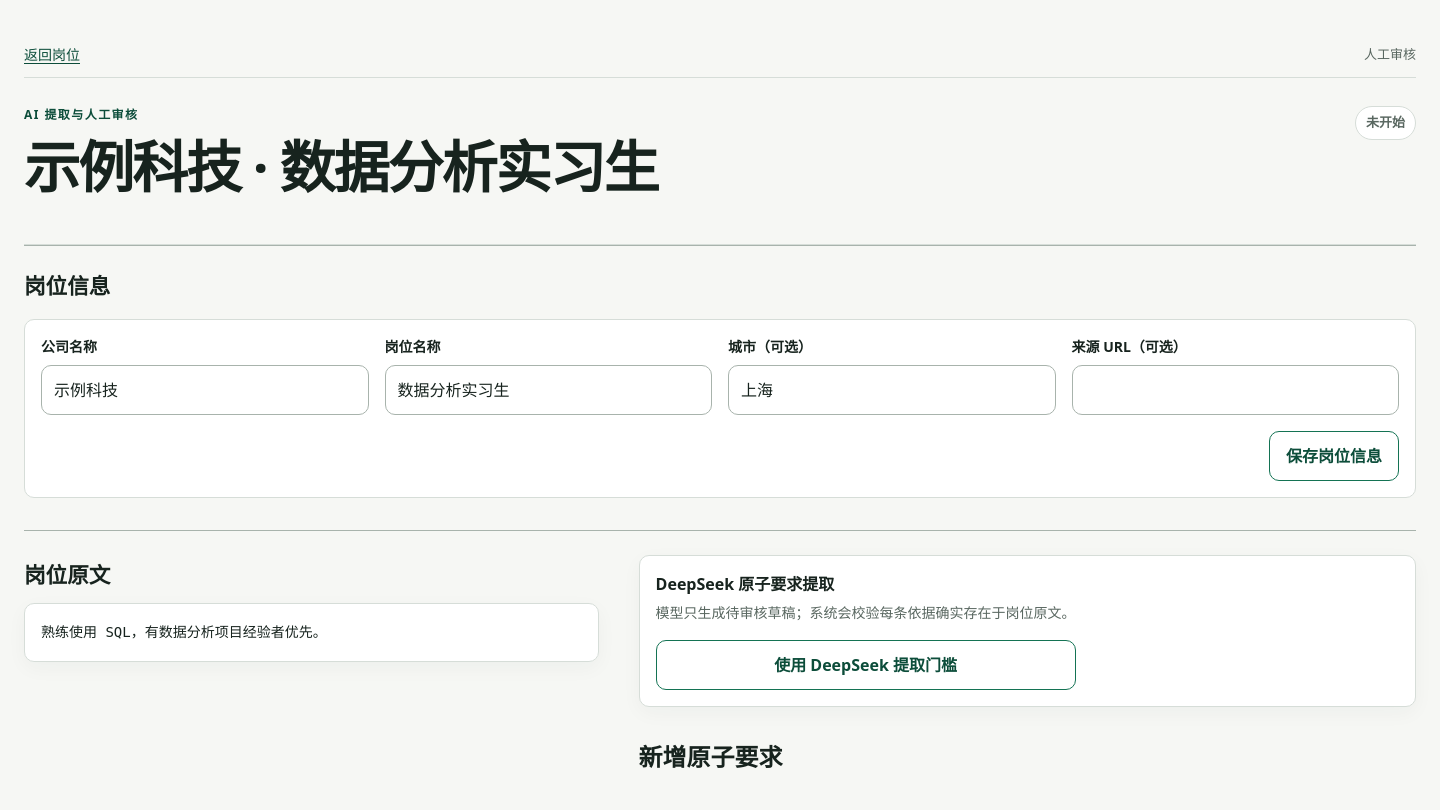
Scenario: RequirementReviewDashboard › starts AI analysis and shows extracted requirements after completion
The image size is (1440, 810).
Click the button "使用 DeepSeek 提取门槛": (866, 665) [656, 640, 1076, 690]
(page scrolled)
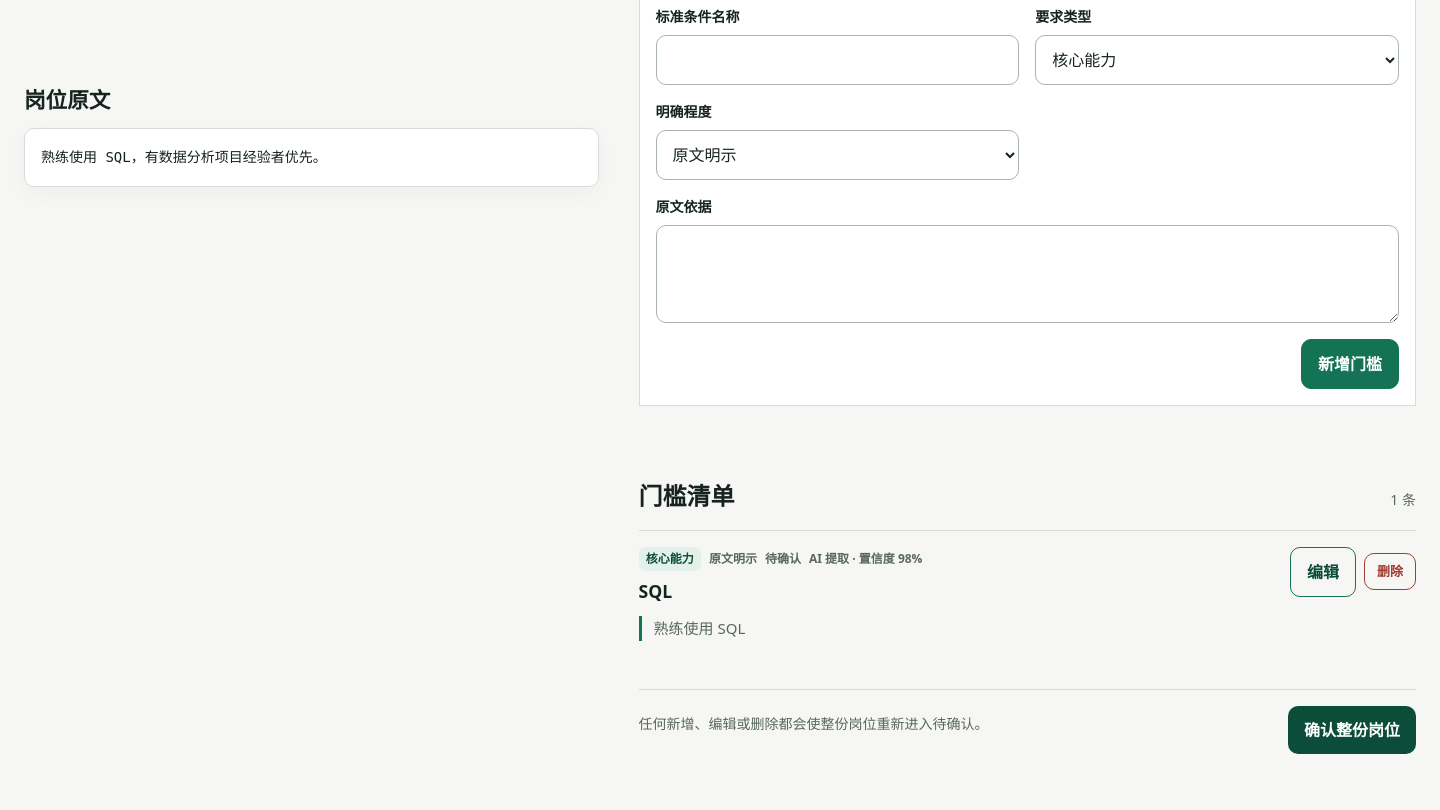
Check: the heading "SQL" is shown, box [639, 579, 672, 603]
Check: the text "AI 提取 · 置信度 98%" is shown, box [809, 550, 922, 568]
